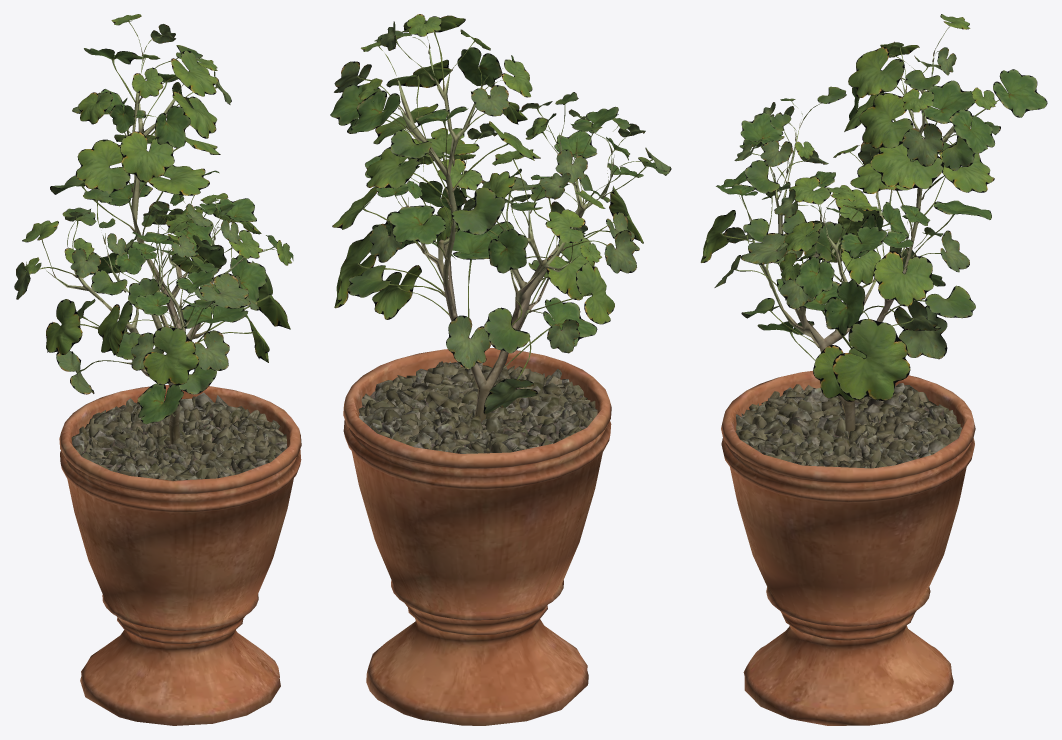
File: potted_plant_01.glb
3 views of the same model, side by side, from view 1: azimuth 30°, elevation 25°; view 2: azimuth 150°, elevation 25°; view 3: azimuth 270°, elevation 25° (orthographic). The views are drawn at different scales.
Parts seen in each view (by area): view 1: potted_plant_01_stem, potted_plant_01_leaves; view 2: potted_plant_01_stem, potted_plant_01_leaves; view 3: potted_plant_01_stem, potted_plant_01_leaves.
Part boxes in pixels (left/top/right/bottom): potted_plant_01_stem: left=54, top=55, right=301, bottom=725; potted_plant_01_leaves: left=14, top=14, right=293, bottom=424; potted_plant_01_stem: left=343, top=48, right=612, bottom=725; potted_plant_01_leaves: left=330, top=14, right=671, bottom=414; potted_plant_01_stem: left=721, top=56, right=975, bottom=725; potted_plant_01_leaves: left=700, top=14, right=1047, bottom=401.
Size of the model in its own units: 0.5874 by 1.34 by 0.6336.
2 materials, 2 textured.
